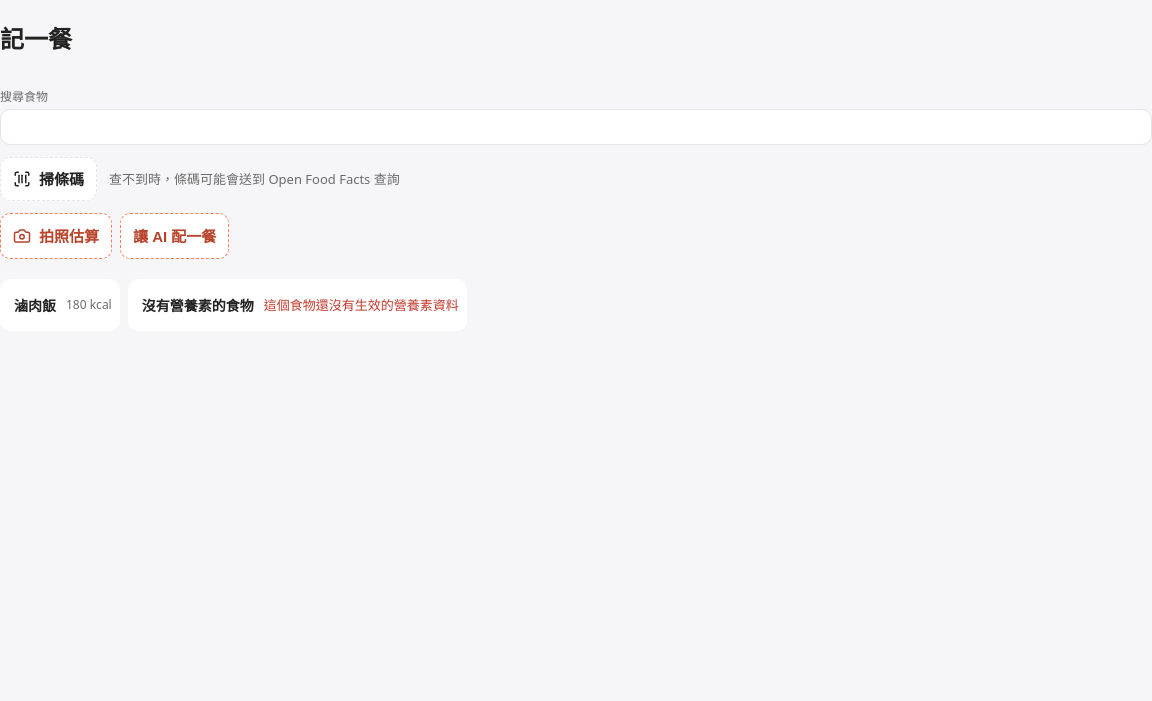
Test case: 記一餐 › 只有公開的預設份量：選公開的
Click the button "滷肉飯". click: [35, 305]
box: [8, 283, 62, 327]
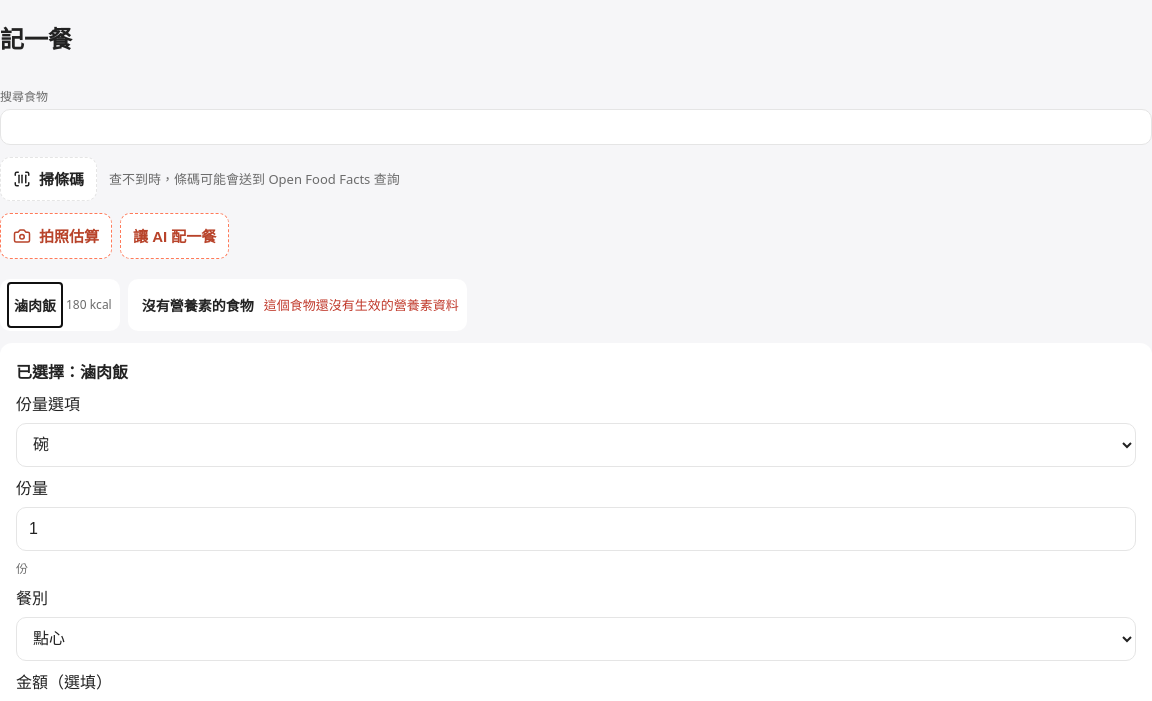
Expected: the dropdown labelled "份量選項" shows "碗", [16, 423, 1136, 467]
